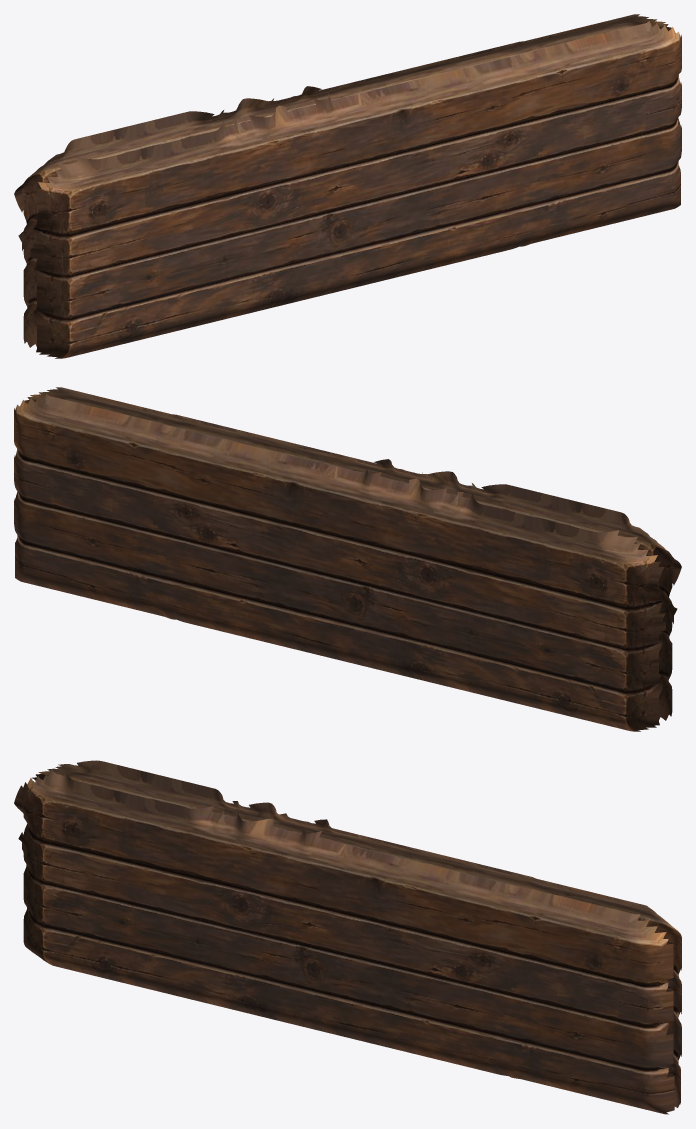
Rendered from v4-mine-chamber-scatter-timbers.glb.
3 views of the same model, one above another, from view 1: azimuth 30°, elevation 25°; view 2: azimuth 150°, elevation 25°; view 3: azimuth 330°, elevation 25° (orthographic).
Visible parts, largest first — view 1: v4-mine-chamber-scatter-timbers; view 2: v4-mine-chamber-scatter-timbers; view 3: v4-mine-chamber-scatter-timbers.
Boxes of the visible parts, box(x1,y1,x2,y2) form: v4-mine-chamber-scatter-timbers: box(14, 14, 681, 358); v4-mine-chamber-scatter-timbers: box(14, 387, 681, 731); v4-mine-chamber-scatter-timbers: box(14, 760, 681, 1114).
Bounding box in the file's own units: 3.37 × 0.9787 × 0.24.
1 material, 1 textured.
